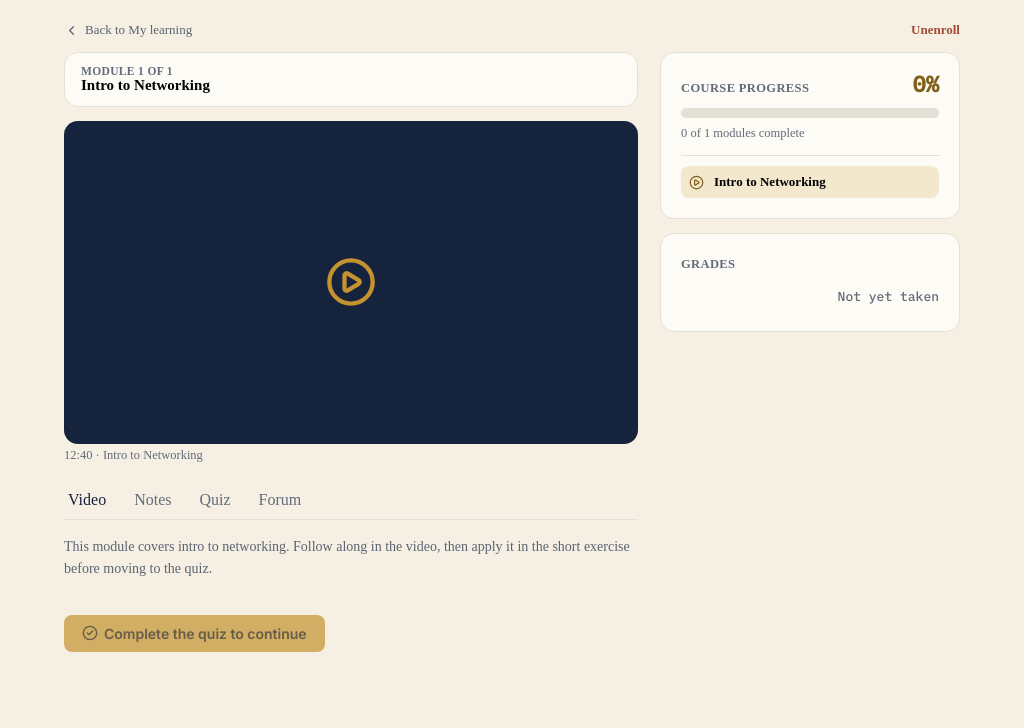
Test case: LearningScreen — quiz completion gate (#205) › does not submit if a question is left unanswered
Click the tab "quiz" at x=215, y=500, box [196, 481, 235, 519]
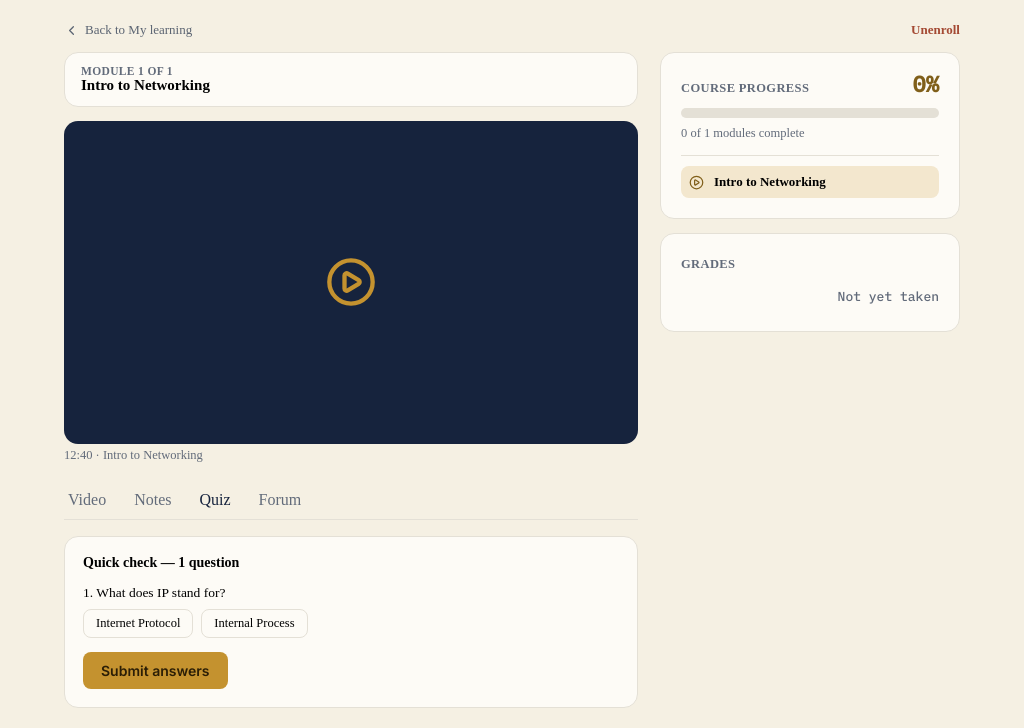
Expected: the text "1. What does IP stand for?" is shown, [83, 585, 226, 600]
Click the button "Submit answers" at x=155, y=670, box [83, 652, 228, 689]
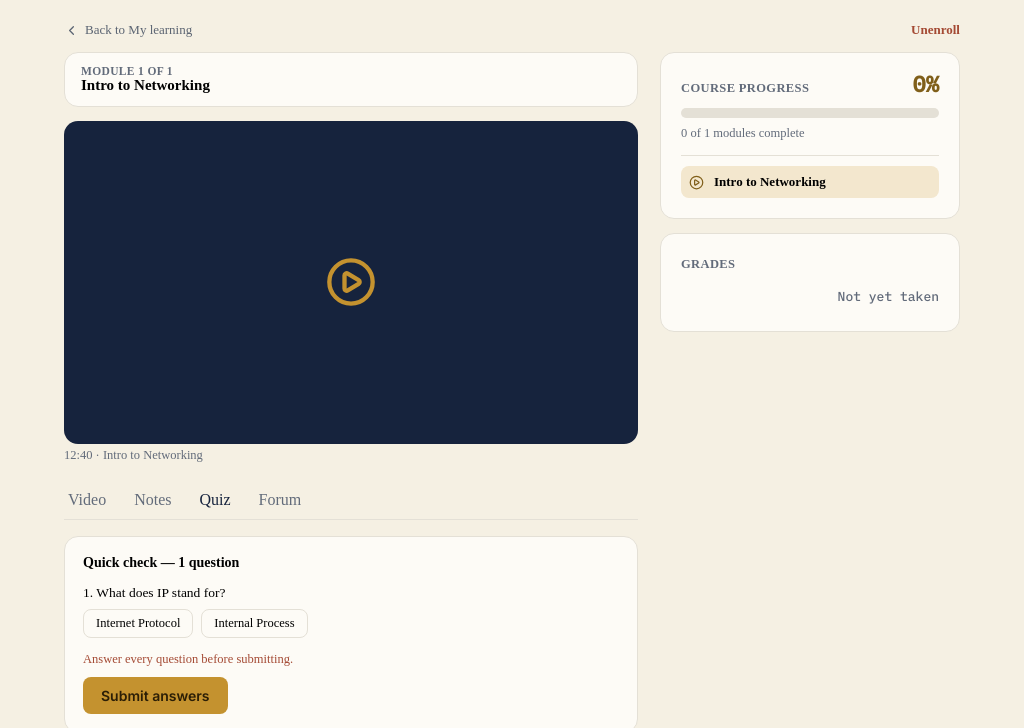
Expected: the text "Answer every question before submitting." is shown, [83, 652, 293, 666]
